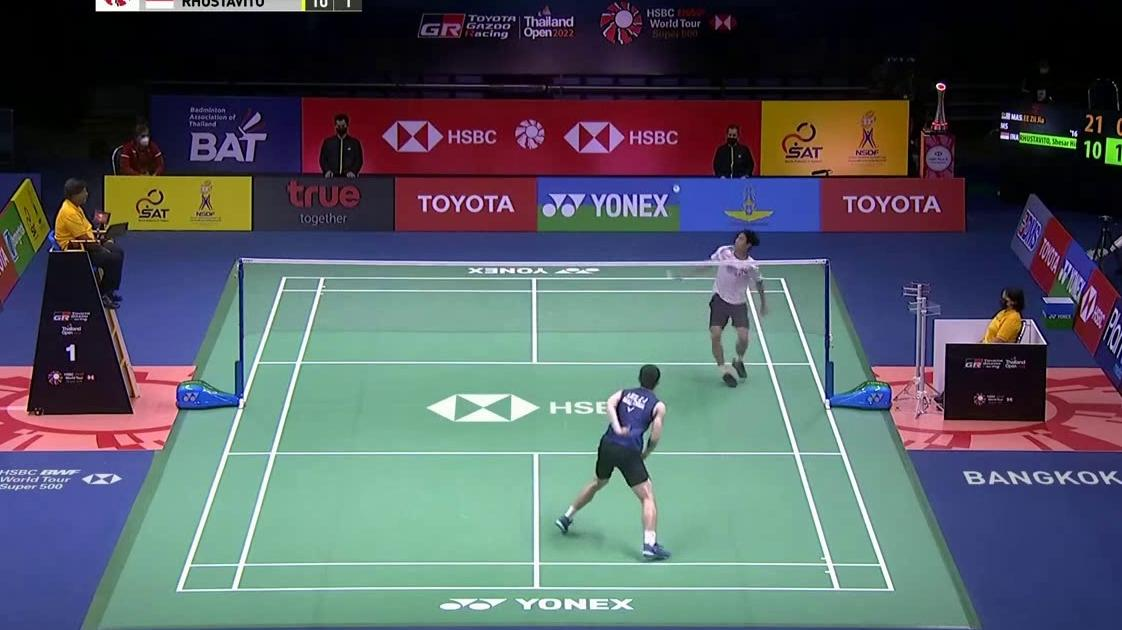shuttle: (673, 184, 680, 192)
